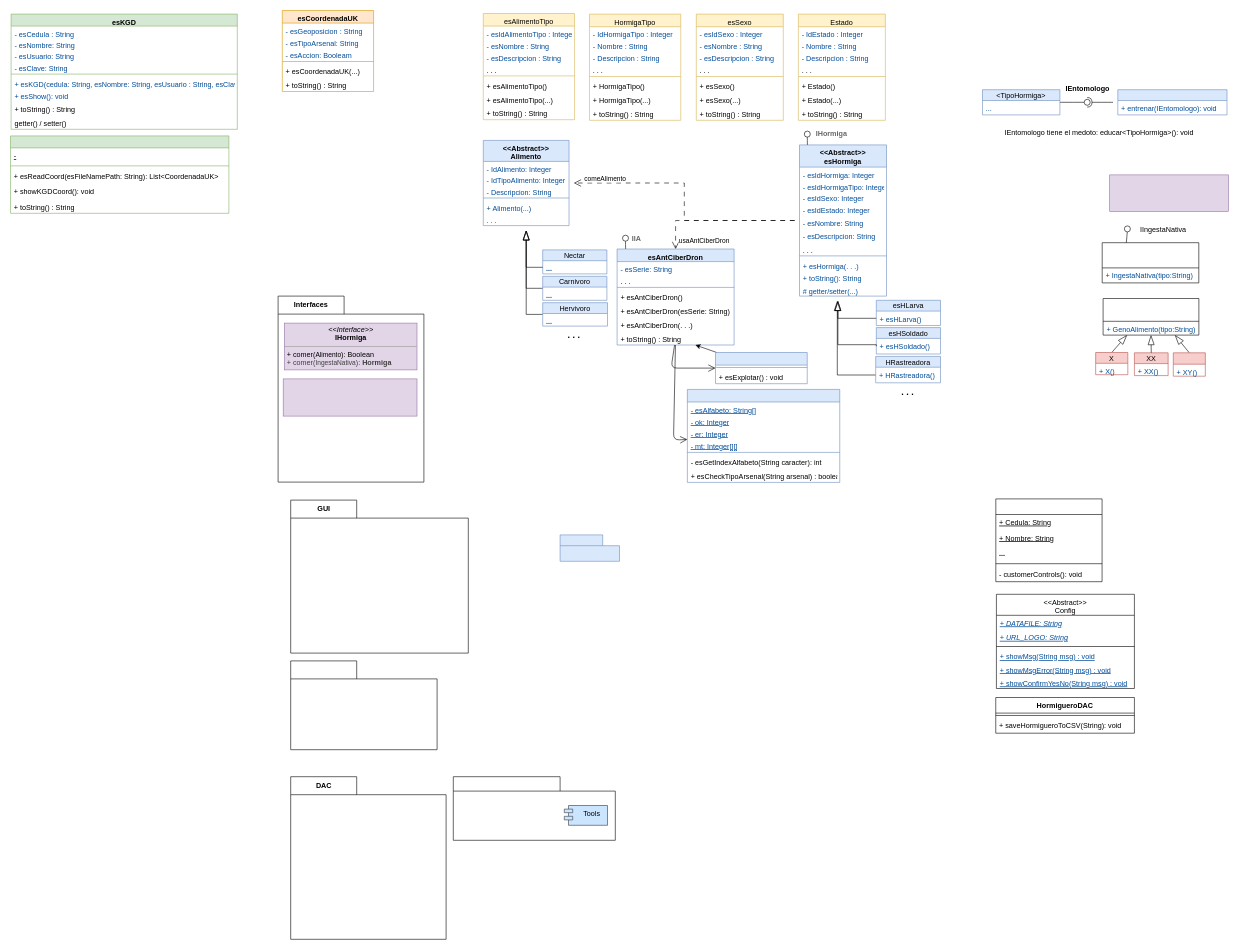
Image size: 1239x950. Some labels were removed from this diagram. Here are the shapes that lost their labels. From the top down, the box of each, then its label:
(1117, 89, 1227, 115): Entrenamiento
(10, 135, 229, 213): esSistemaRuso
(1109, 174, 1228, 212): <<Interface>> IIngestaNativa + inyectar( GenoAlimento ): boolean
(1102, 242, 1199, 283): <<Abstract>> IngestaNativa
(1102, 298, 1199, 335): <<Abstract>> GenoAlimento
(715, 352, 807, 384): esBBA
(1173, 352, 1205, 376): XY
(283, 378, 417, 416): <<Interface>> IIA + buscar (tipoArsenal : String) : Boolean
(687, 389, 840, 482): esAutomata
(560, 534, 620, 561): Resource
(995, 498, 1102, 582): FEcuAntApp
(290, 660, 437, 750): BL
(453, 776, 615, 840): InfrastructureComponent
